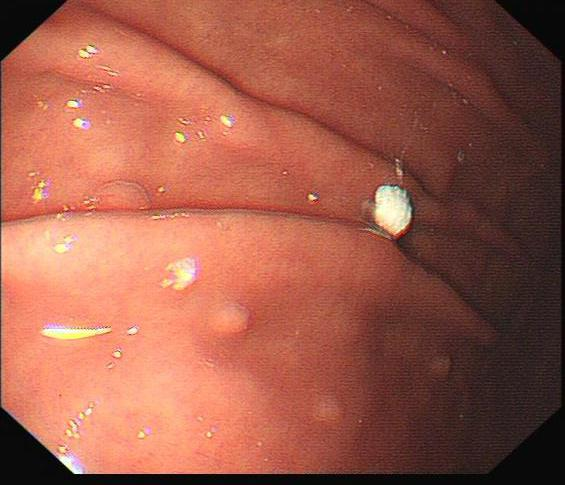Polyp: (77, 172, 162, 228), (202, 292, 264, 351)
